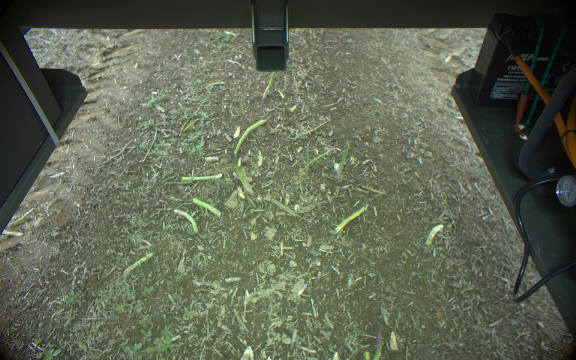aspa: (233, 118, 268, 154), (227, 151, 253, 194), (332, 208, 365, 235), (122, 251, 155, 275), (172, 207, 197, 236), (193, 197, 222, 217), (336, 137, 349, 180), (259, 71, 277, 99), (180, 173, 224, 183), (374, 332, 384, 360), (204, 156, 220, 162)
